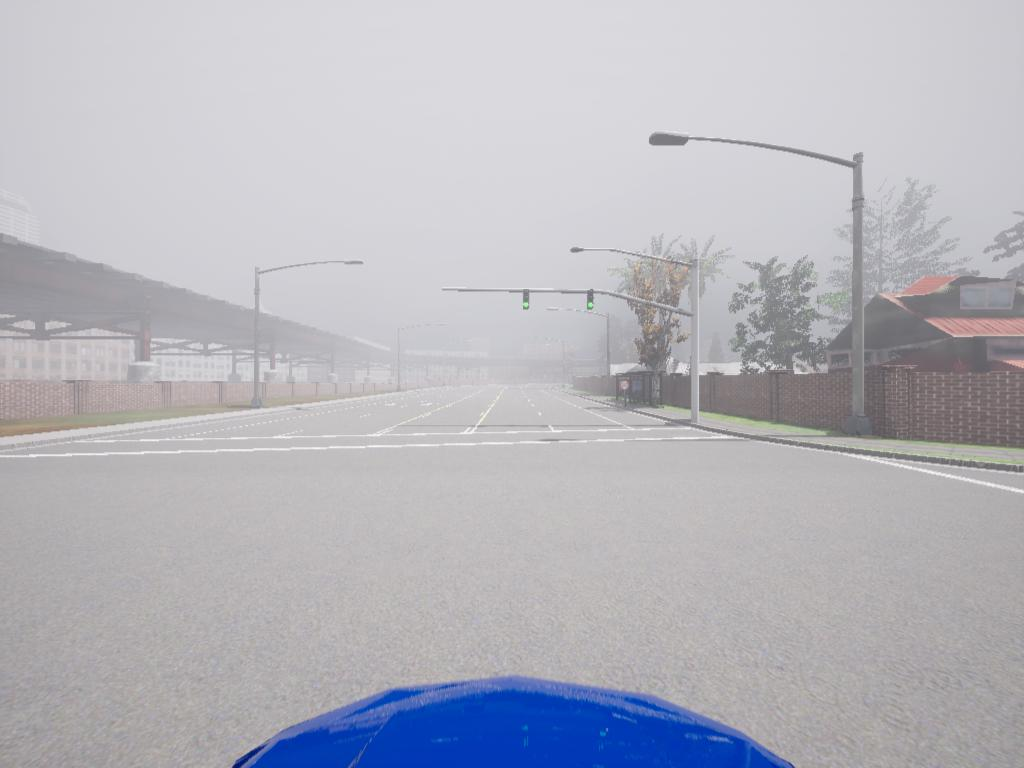traffic_light: (523, 290, 532, 310), (589, 292, 597, 310)
